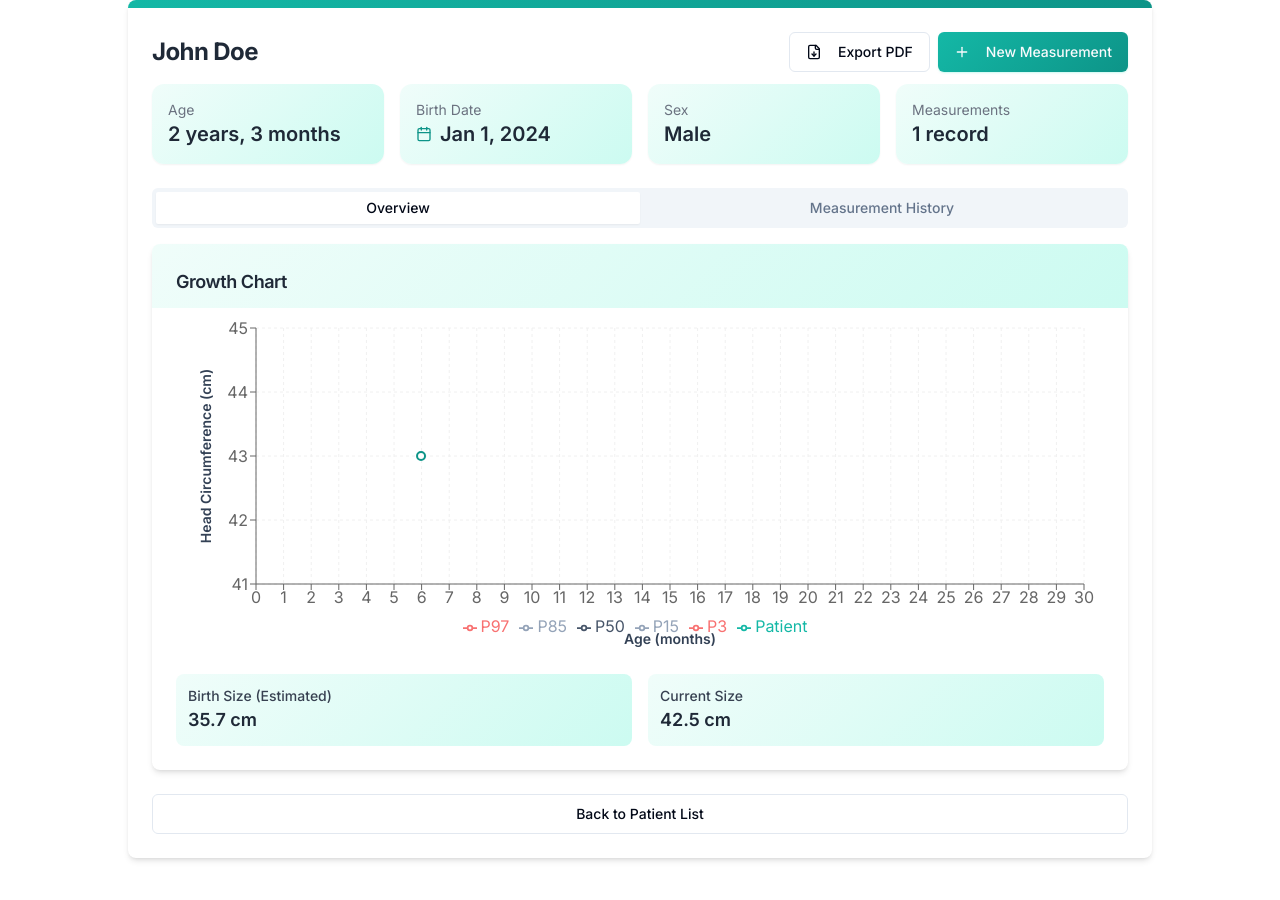
Test: PatientDetail › shows measurements in the history tab
The width and height of the screenshot is (1280, 900).
Click the tab "Measurement History" at (882,208), box x1=640 y1=192 x2=1124 y2=224
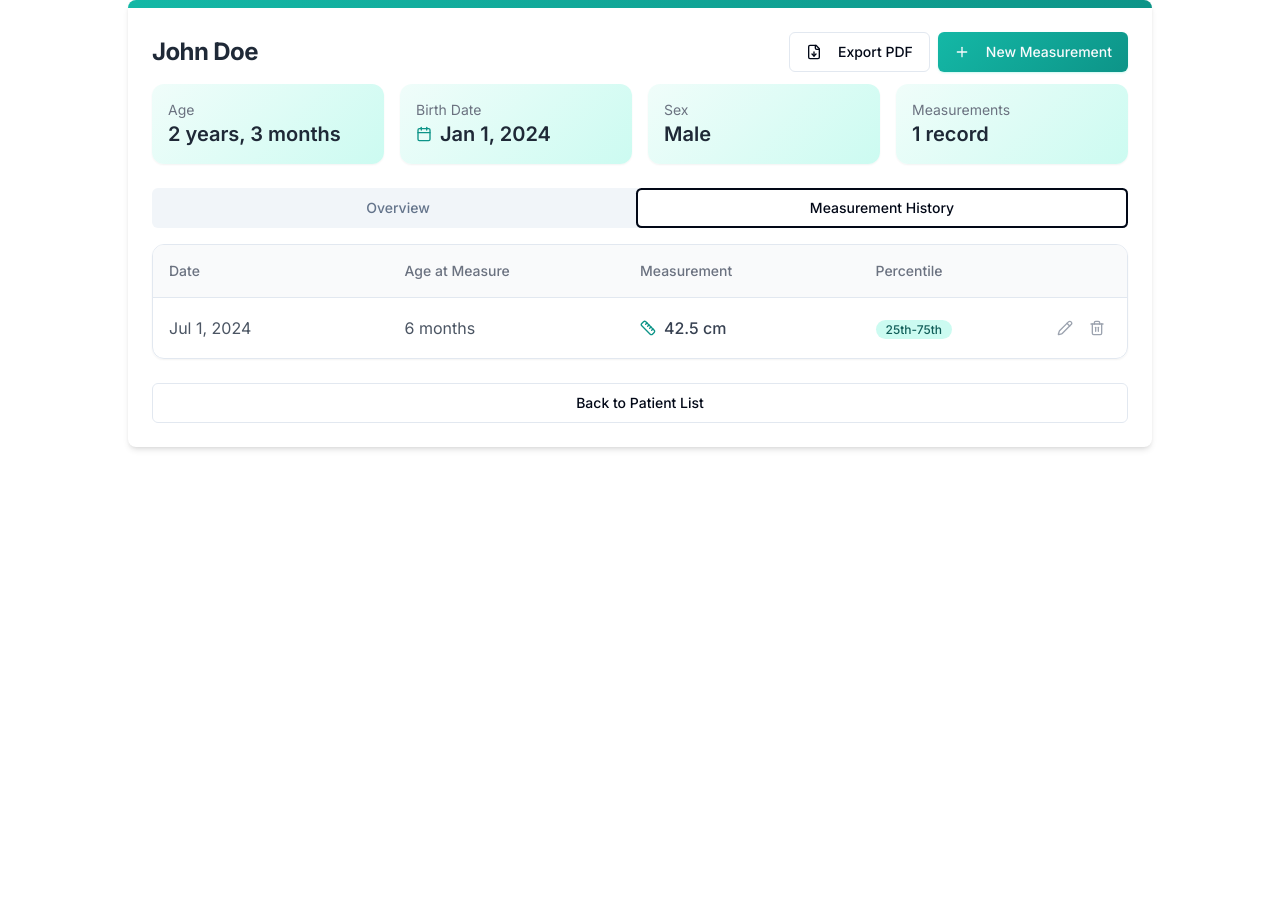
Expected: the text "42.5 cm" is shown, x1=640 y1=318 x2=726 y2=338
Now the text "25th-75th" is shown, box x1=876 y1=320 x2=952 y2=339
